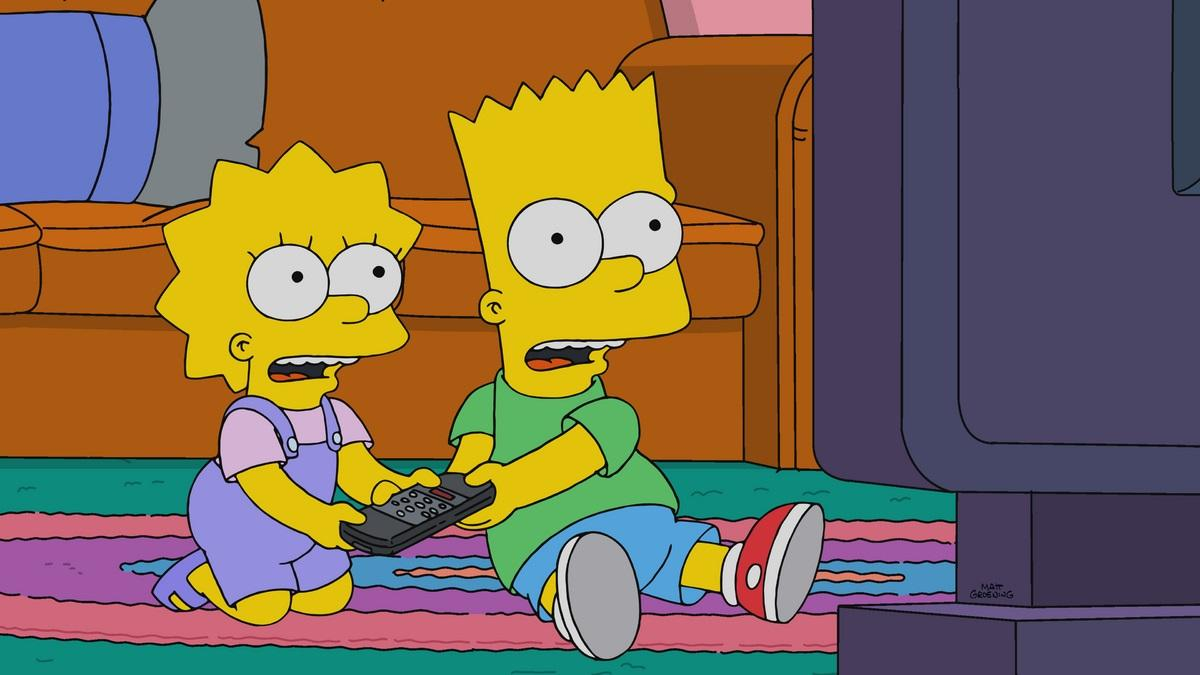Bart: (434, 73, 845, 646)
Lisa: (137, 129, 438, 666)
